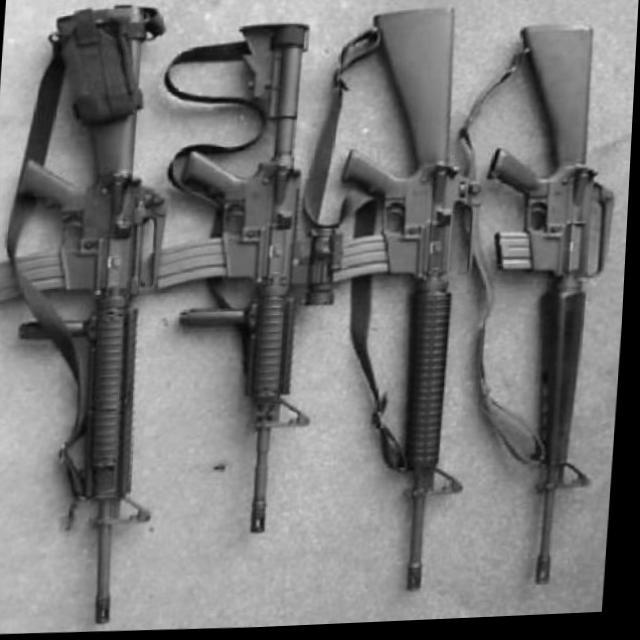weapon: (0, 1, 209, 631), (308, 0, 481, 617), (455, 9, 616, 594), (165, 11, 319, 554)
